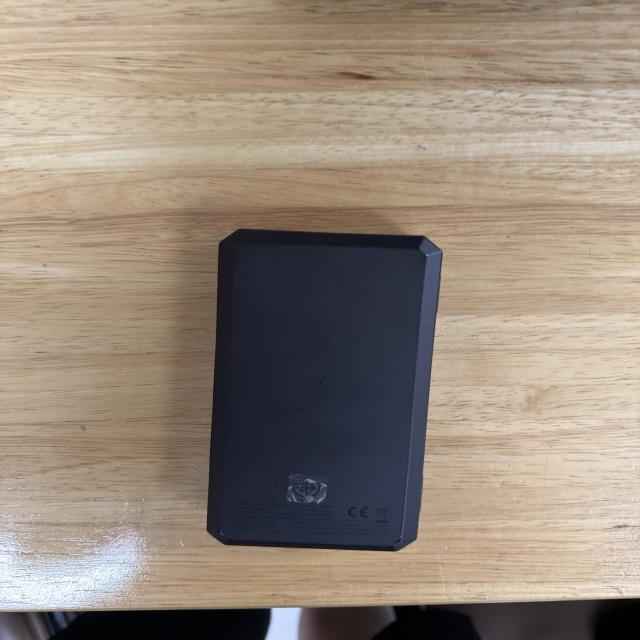power bank: (205, 223, 446, 555)
